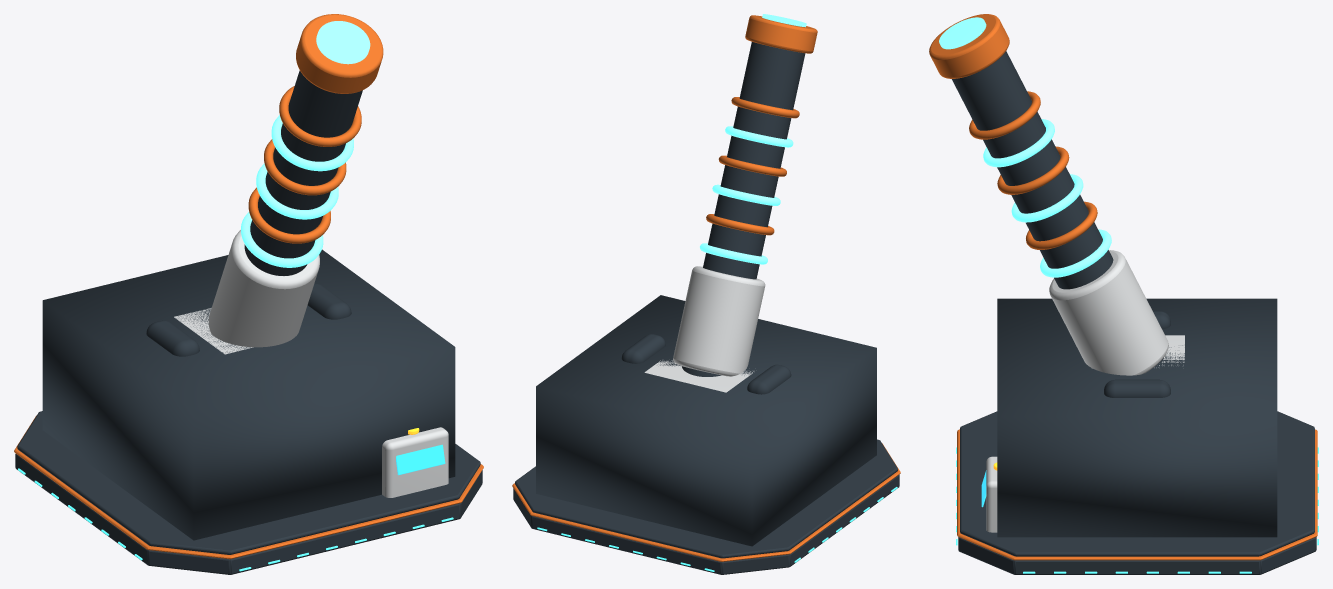
File: cannon.glb
The picture shows the model from 3 angles, left to right: view 1: azimuth 30°, elevation 25°; view 2: azimuth 150°, elevation 25°; view 3: azimuth 270°, elevation 25°; orthographic projection. The views are drawn at different scales.
Parts seen in each view (by area): view 1: COL_body, deck, barrel, barrel sleeve, plinth, muzzle, console, plinth lip, muzzle glow, charge coil 5, charge coil 3, charge coil 4 (+7 smaller); view 2: COL_body, barrel, deck, barrel sleeve, plinth, muzzle, plinth lip, turret, trunnion -1, trunnion 1, charge coil 4, charge coil 0 (+4 smaller); view 3: COL_body, deck, barrel, barrel sleeve, plinth, muzzle, plinth lip, trunnion 1, muzzle glow, charge coil 4, charge coil 0, charge coil 5 (+5 smaller).
Part boxes in pixels (x1,y1,x2,y2): COL_body: (42,249,455,540); deck: (17,411,480,554); barrel: (244,70,362,275); barrel sleeve: (208,230,319,347); plinth: (15,454,482,574); muzzle: (296,14,383,93); console: (382,427,448,497); plinth lip: (14,415,483,559); muzzle glow: (316,21,370,64); charge coil 5: (279,86,361,146); charge coil 3: (264,139,346,195); charge coil 4: (271,115,353,171); COL_body: (536,295,876,546); barrel: (682,42,805,376); deck: (515,439,897,558); barrel sleeve: (673,266,765,376); plinth: (513,474,899,574); muzzle: (745,15,817,53); plinth lip: (512,443,900,561); turret: (644,360,754,392); trunnion -1: (747,364,791,394); trunnion 1: (621,334,665,363); charge coil 4: (725,126,793,147); charge coil 0: (700,243,767,264); COL_body: (997,298,1277,537); deck: (960,411,1314,556); barrel: (952,51,1163,365); barrel sleeve: (1049,250,1168,375); plinth: (958,537,1316,574); muzzle: (929,14,1009,78); plinth lip: (957,429,1317,560); trunnion 1: (1104,379,1170,397); muzzle glow: (939,17,986,49); charge coil 4: (983,119,1054,167); charge coil 0: (1040,229,1111,277); charge coil 5: (969,91,1040,139).
Bounding box in the file's own units: 6.48 × 9.44 × 6.96.
